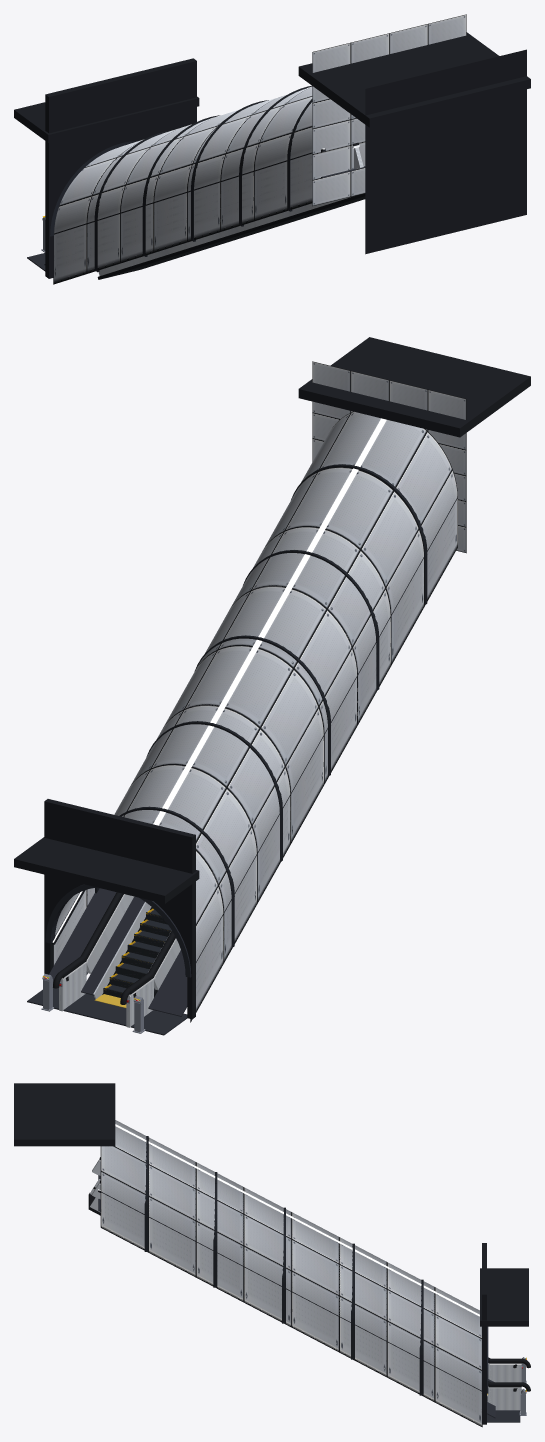
The model's file is escalator_system.glb.
3 views of the same model, one above another, from view 1: azimuth 30°, elevation 25°; view 2: azimuth 150°, elevation 25°; view 3: azimuth 270°, elevation 25° (orthographic). The views are drawn at different scales.
Parts seen in each view (by area): view 1: Esc_Portal_Surround, Esc_Arch_Tiles, Esc_Rib, Esc_Truss_Bed, Esc_Balustrade, Esc_Archivolt, Esc_Cove_Housing; view 2: Esc_Arch_Tiles, Esc_Portal_Surround, Esc_Deck, Esc_Rib, Esc_Balustrade, Esc_Light, Esc_Handrail, Esc_Riser, Esc_Tread, Esc_Archivolt; view 3: Esc_Arch_Tiles, Esc_Portal_Surround, Esc_Rib, Esc_Balustrade, Esc_Light, Esc_Deck, Esc_Handrail, Esc_Cove_Housing.
Part boxes in pixels (box(x1,y1,x2,y2)): Esc_Portal_Surround: box(14, 32, 530, 278); Esc_Arch_Tiles: box(53, 14, 466, 284); Esc_Rib: box(94, 85, 312, 272); Esc_Truss_Bed: box(97, 193, 365, 279); Esc_Balustrade: box(98, 147, 363, 275); Esc_Archivolt: box(50, 141, 138, 236); Esc_Cove_Housing: box(54, 149, 325, 234); Esc_Arch_Tiles: box(53, 361, 466, 1022); Esc_Portal_Surround: box(14, 337, 530, 1019); Esc_Deck: box(27, 888, 187, 1035); Esc_Rib: box(95, 464, 427, 947); Esc_Balustrade: box(59, 894, 180, 1027); Esc_Light: box(153, 418, 386, 825); Esc_Handrail: box(53, 892, 175, 1004); Esc_Riser: box(103, 908, 171, 997); Esc_Tread: box(104, 908, 171, 993); Esc_Archivolt: box(45, 884, 191, 977); Esc_Arch_Tiles: box(100, 1120, 482, 1427); Esc_Portal_Surround: box(14, 1083, 528, 1424); Esc_Rib: box(144, 1136, 423, 1395); Esc_Balustrade: box(89, 1159, 521, 1410); Esc_Light: box(115, 1124, 479, 1316); Esc_Deck: box(98, 1175, 520, 1422); Esc_Handrail: box(100, 1157, 530, 1391); Esc_Cove_Housing: box(98, 1190, 481, 1391).
Size of the model in its own units: 4.6 by 12.1 by 17.87.
24 materials, 4 textured.
